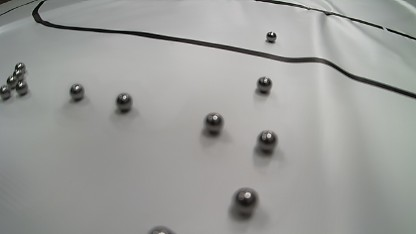ironball: (233, 187, 259, 216), (257, 130, 277, 152), (204, 112, 223, 134), (116, 92, 132, 112), (69, 83, 84, 100), (257, 76, 272, 93), (148, 226, 175, 234), (15, 80, 28, 95), (6, 75, 18, 89), (0, 85, 11, 99), (13, 69, 24, 81), (14, 62, 26, 73), (266, 31, 277, 42)
